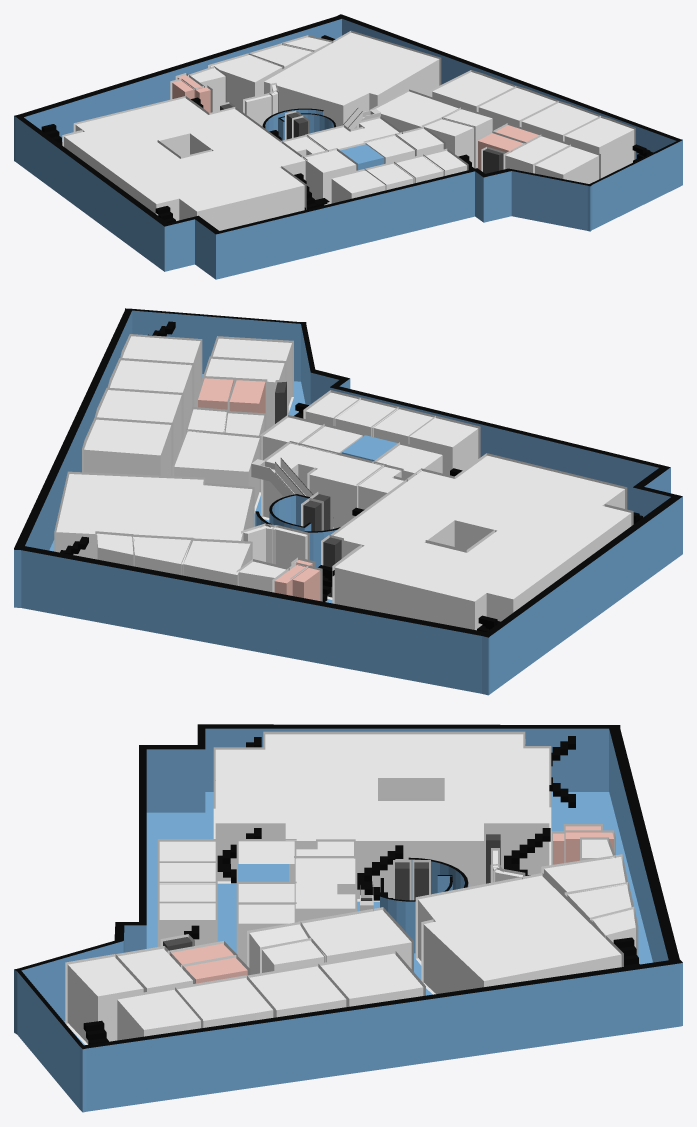
The picture shows the model from 3 angles, top to bottom: view 1: azimuth 30°, elevation 25°; view 2: azimuth 150°, elevation 25°; view 3: azimuth 270°, elevation 25°; orthographic projection. The views are drawn at different scales.
Parts seen in each view (by area): view 1: object, room_9_4_21, object_line.026, room_9_4_3, room_9_4_19, room_9_4_11, room_9_4_15, room_9_4_16, room_9_4_24, room_9_4_17, room_9_4_18, room_9_4_5 (+18 smaller); view 2: object, object_line.026, room_9_4_21, room_9_4_3, room_9_4_16, room_9_4_10, room_9_4_15, room_9_4_14, object_line.012, room_9_4_17, room_9_4_18, room_9_4_11 (+22 smaller); view 3: object, room_9_4_21, object_line.026, room_9_4_3, room_9_4_24, room_9_4_14, room_9_4_10, room_9_4_16, room_9_4_17, room_9_4_19, room_9_4_18, room_9_4_15 (+23 smaller).
Boxes of the visible parts, x1,y1,x2,y2 form: object: (14, 14, 682, 279); room_9_4_21: (64, 98, 305, 230); object_line.026: (62, 96, 307, 209); room_9_4_3: (264, 32, 439, 126); room_9_4_19: (564, 118, 634, 178); room_9_4_11: (210, 55, 282, 111); room_9_4_15: (331, 163, 413, 203); room_9_4_16: (432, 72, 513, 111); room_9_4_24: (535, 146, 598, 183); room_9_4_17: (478, 88, 556, 129); room_9_4_18: (521, 103, 598, 140); room_9_4_5: (303, 150, 356, 205); object: (14, 308, 682, 695); object_line.026: (329, 453, 633, 629); room_9_4_21: (334, 470, 631, 630); room_9_4_3: (56, 474, 252, 559); room_9_4_16: (84, 419, 171, 475); room_9_4_10: (263, 443, 384, 528); room_9_4_15: (373, 409, 478, 475); room_9_4_14: (174, 431, 259, 505); object_line.012: (172, 429, 261, 512); room_9_4_17: (97, 390, 181, 462); room_9_4_18: (110, 360, 192, 435); room_9_4_11: (183, 540, 250, 585); object: (14, 724, 682, 1112); room_9_4_21: (215, 734, 549, 898); object_line.026: (213, 731, 551, 901); room_9_4_3: (418, 875, 621, 993); room_9_4_24: (67, 956, 143, 1043); room_9_4_14: (300, 910, 411, 967); room_9_4_10: (295, 858, 355, 922); room_9_4_16: (321, 953, 423, 1006); room_9_4_17: (249, 966, 346, 1017); room_9_4_19: (117, 990, 200, 1040); room_9_4_18: (177, 978, 273, 1027); room_9_4_15: (159, 841, 215, 884).
Bounding box in the file's own units: 2.05 × 0.2418 × 1.78.
